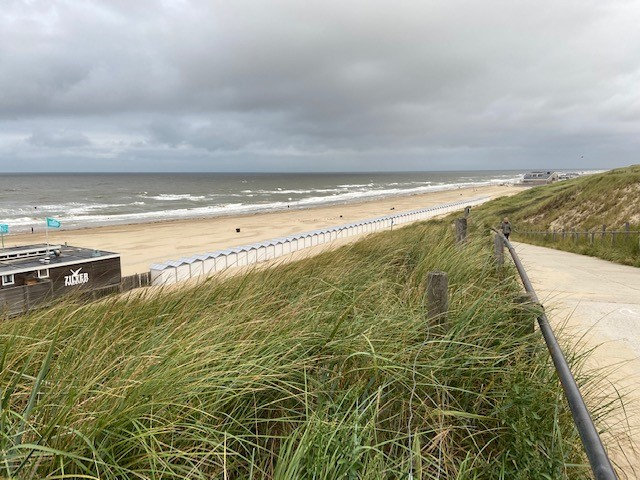zilvermeeuw: (1, 235, 134, 326)
